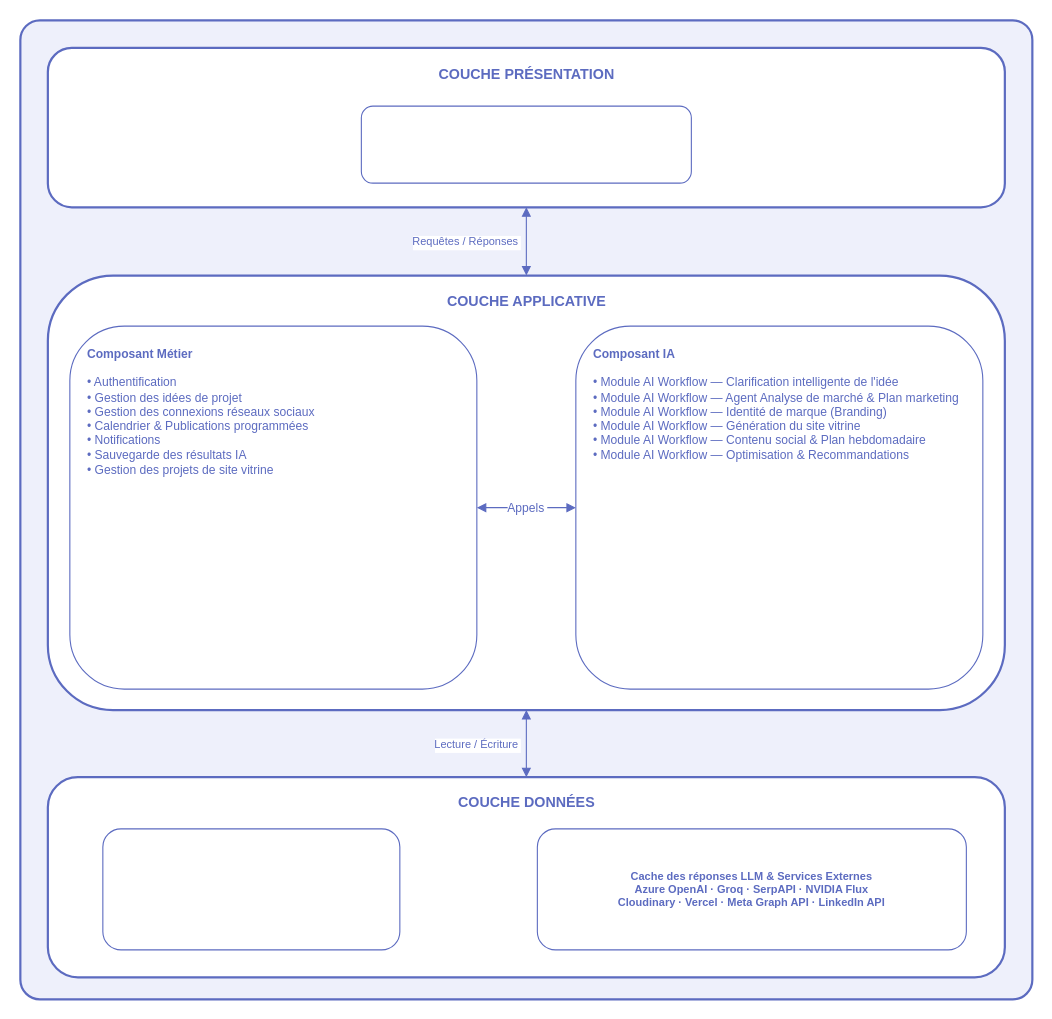
Some shapes in this 1052 by 1019 pixel diagram are drawn without their labels. Each missing label, with the centre of its shape:
"Interface Porteur de projet" goes at point 525,144.
"Stockage persistant (PostgreSQL)" goes at point 251,889.
